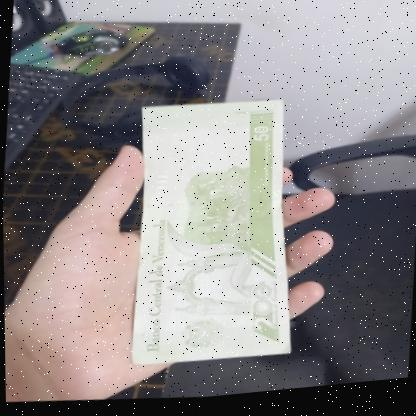fifty-back-vef: (123, 93, 308, 380)
